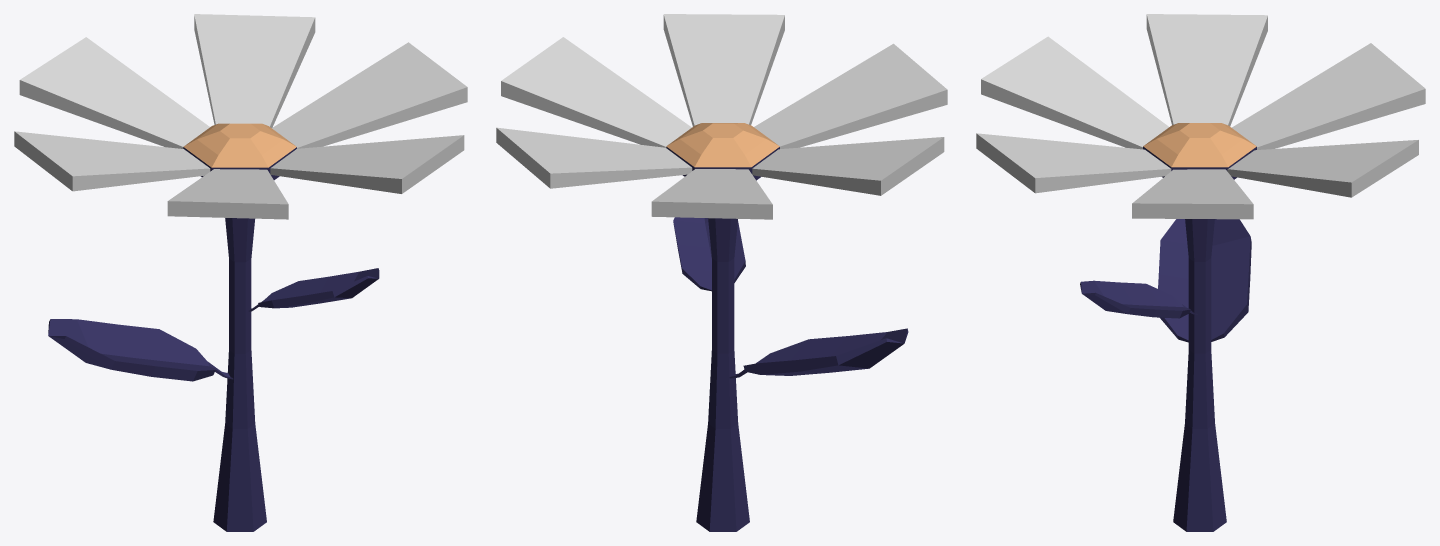
Rendered from flower6.fbx.
3 views of the same model, side by side, from view 1: azimuth 30°, elevation 25°; view 2: azimuth 150°, elevation 25°; view 3: azimuth 270°, elevation 25° (orthographic).
Visible parts, largest first — view 1: Cube, Circle; view 2: Cube, Circle; view 3: Cube, Circle.
Boxes of the visible parts, box(x1,y1,x2,y2) form: Cube: box(14, 14, 467, 219); Circle: box(48, 123, 379, 531); Cube: box(496, 14, 947, 219); Circle: box(666, 123, 908, 531); Cube: box(976, 14, 1425, 219); Circle: box(1080, 123, 1256, 531).
Bounding box in the file's own units: 991 × 1004 × 990.
